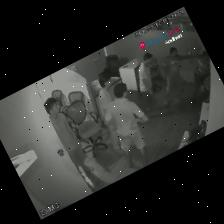person: (45, 98, 93, 174), (105, 83, 148, 166), (157, 47, 199, 106), (139, 53, 155, 110), (98, 72, 112, 116)
